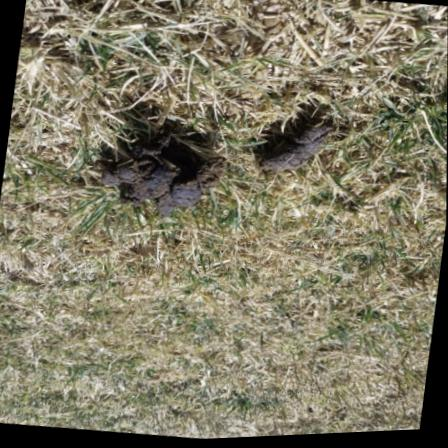dog-poop: (94, 137, 221, 224), (255, 113, 337, 191)
